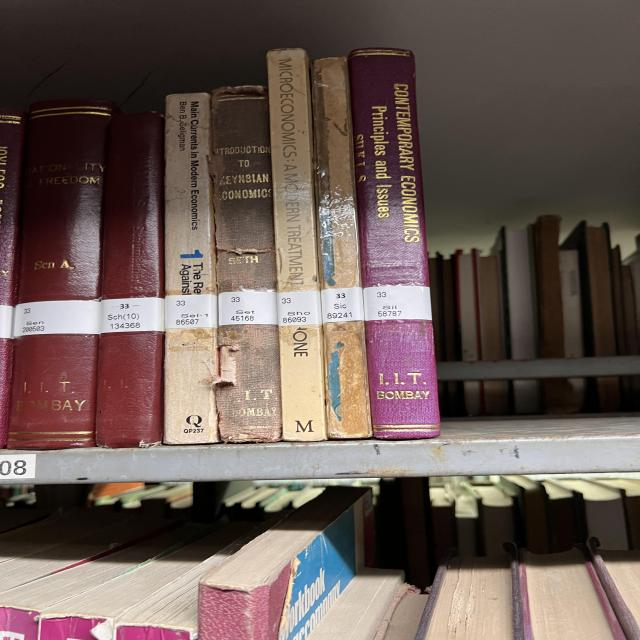Book: (7, 100, 118, 449), (348, 49, 440, 439), (212, 86, 282, 442), (267, 49, 327, 441), (312, 58, 372, 439), (97, 112, 165, 448), (163, 92, 218, 444)
Label: (13, 300, 102, 338), (363, 285, 432, 321), (100, 298, 165, 332), (218, 291, 278, 325), (165, 294, 218, 329), (320, 286, 365, 324), (277, 291, 322, 326)
